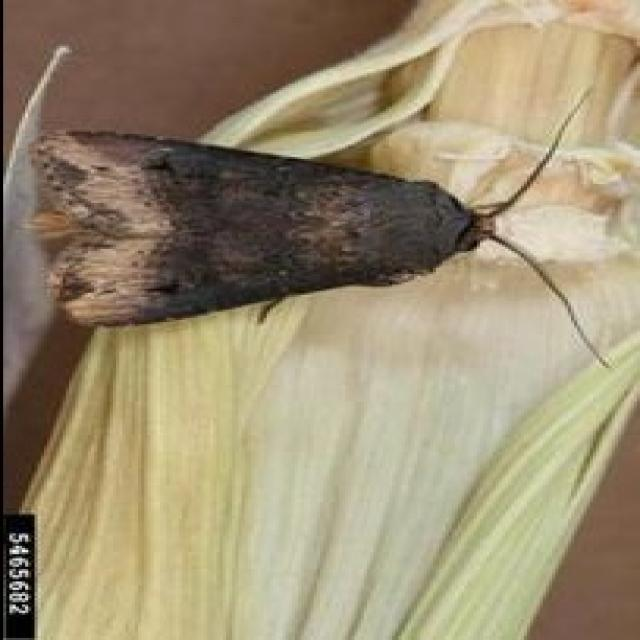black cutworm: (36, 131, 557, 357)
